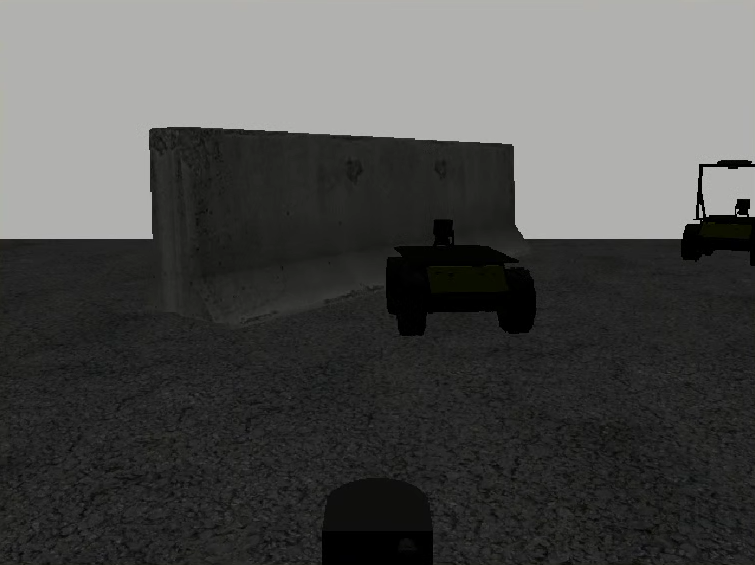husky: (385, 244, 537, 337), (680, 214, 755, 266)
